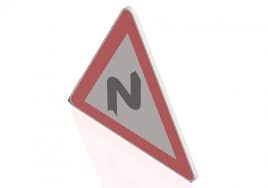Double_bend_right: (67, 5, 198, 183)
